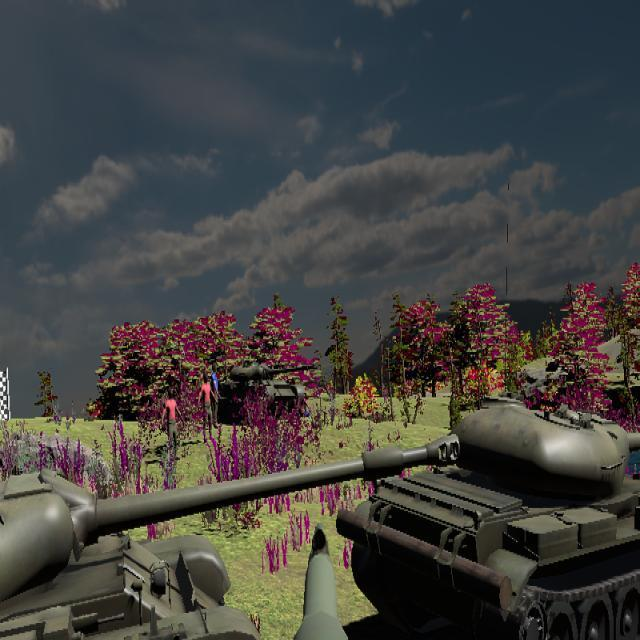Human: (161, 386, 185, 463), (198, 373, 216, 441)
Tank: (337, 397, 640, 638), (0, 463, 279, 640), (211, 361, 320, 421)
